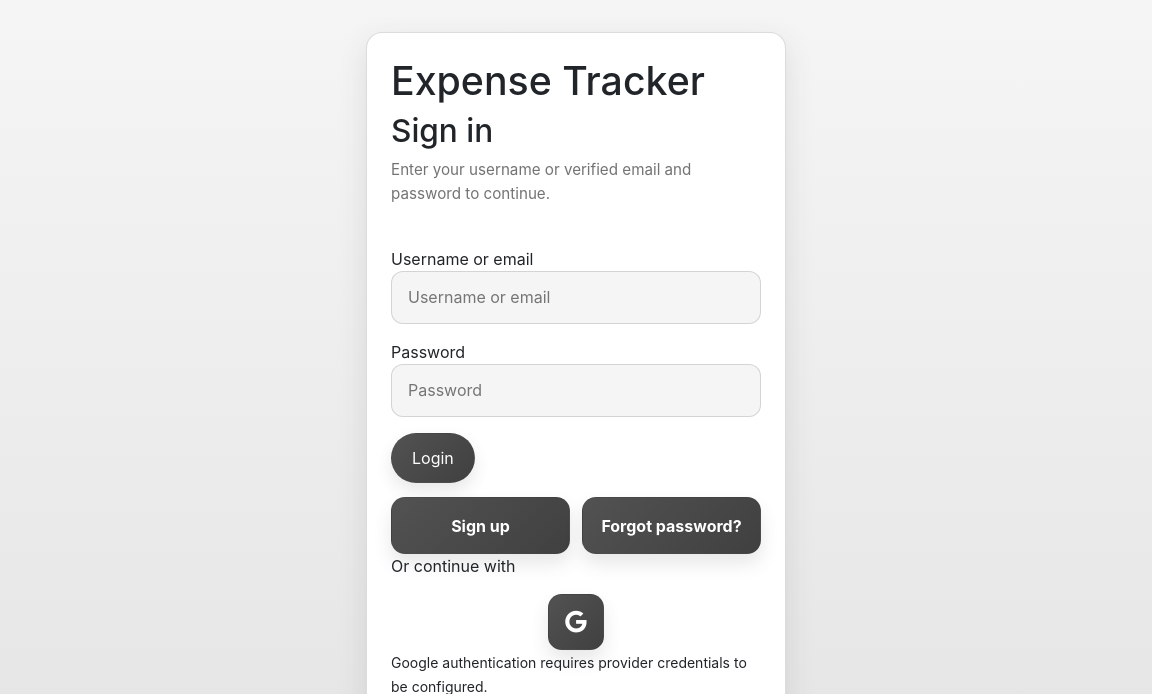
Test case: Login unit tests › keeps registration pending until the user verifies their email
The width and height of the screenshot is (1152, 694).
Click the button "Sign up" at (480, 526), box [391,497,570,554]
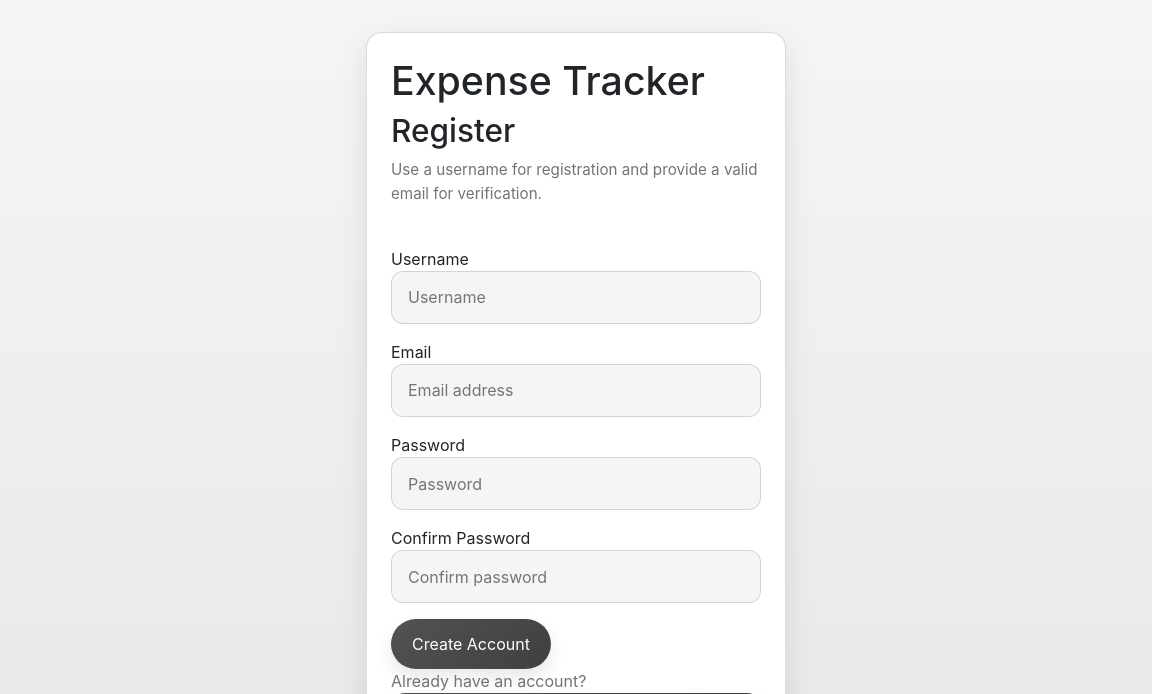
Type "pending-user" into the field labelled "Username" at (576, 297), box [391,271,761,324]
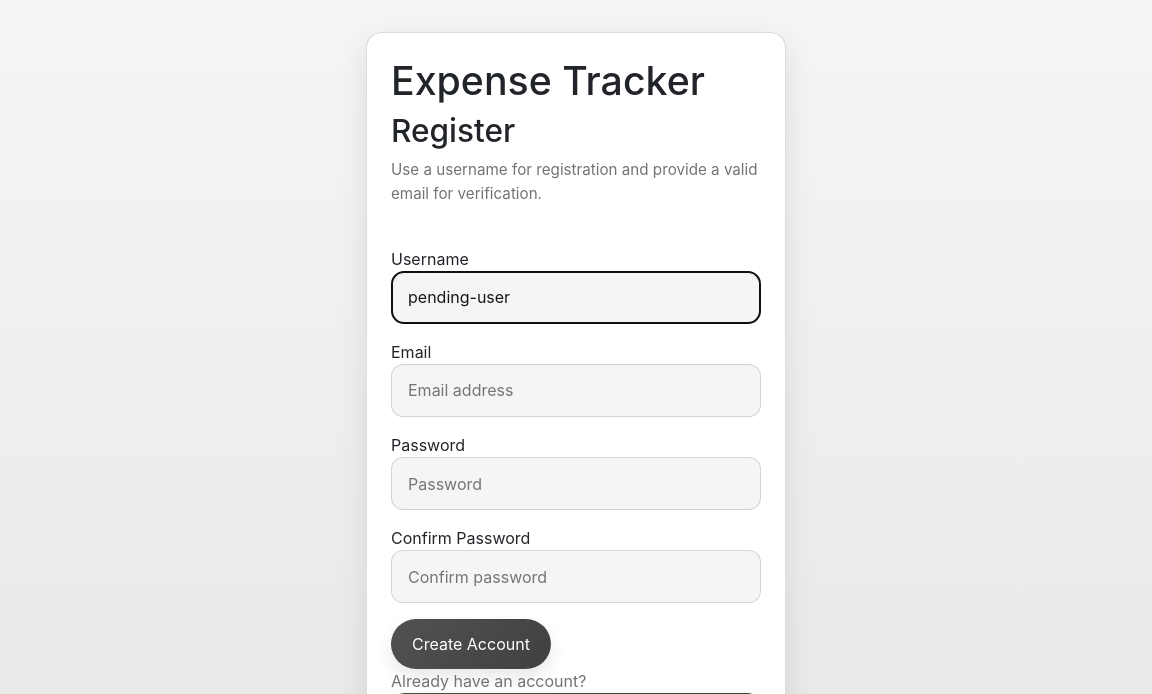
Type "pending@example.com" into the field labelled "Email" at (576, 390), box [391,364,761,417]
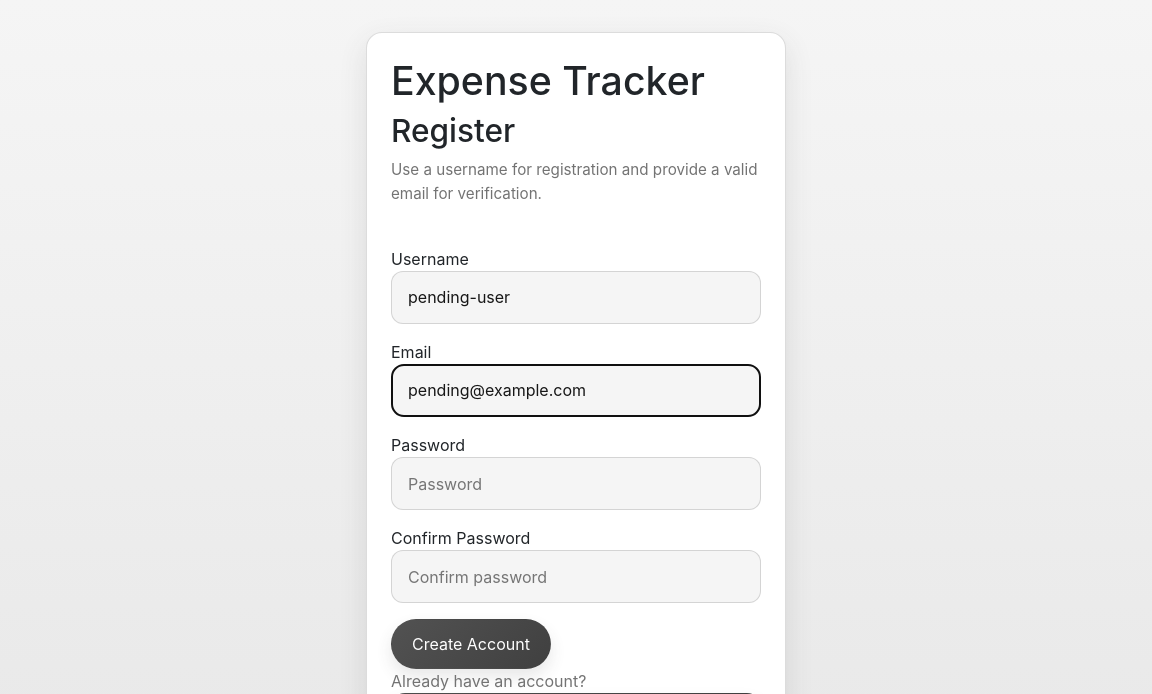
Type "StrongPassword1!" into the password field labelled "Password" at (576, 484), box [391,457,761,510]
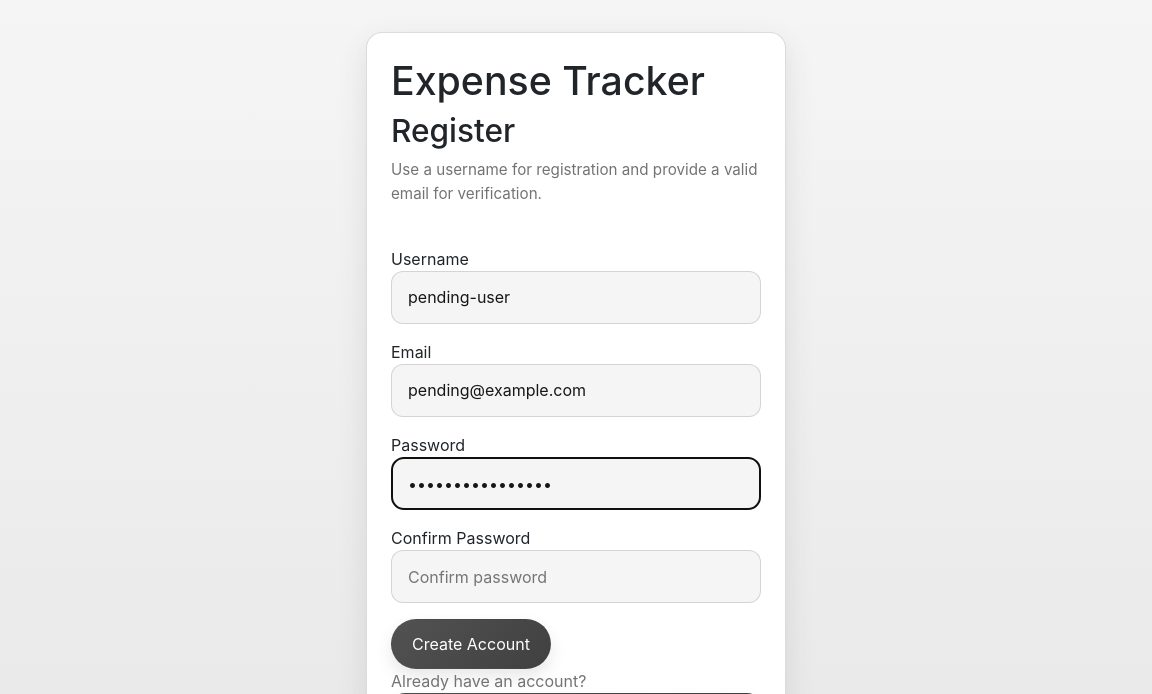
Type "StrongPassword1!" into the password field labelled "Confirm Password" at (576, 577), box [391,550,761,603]
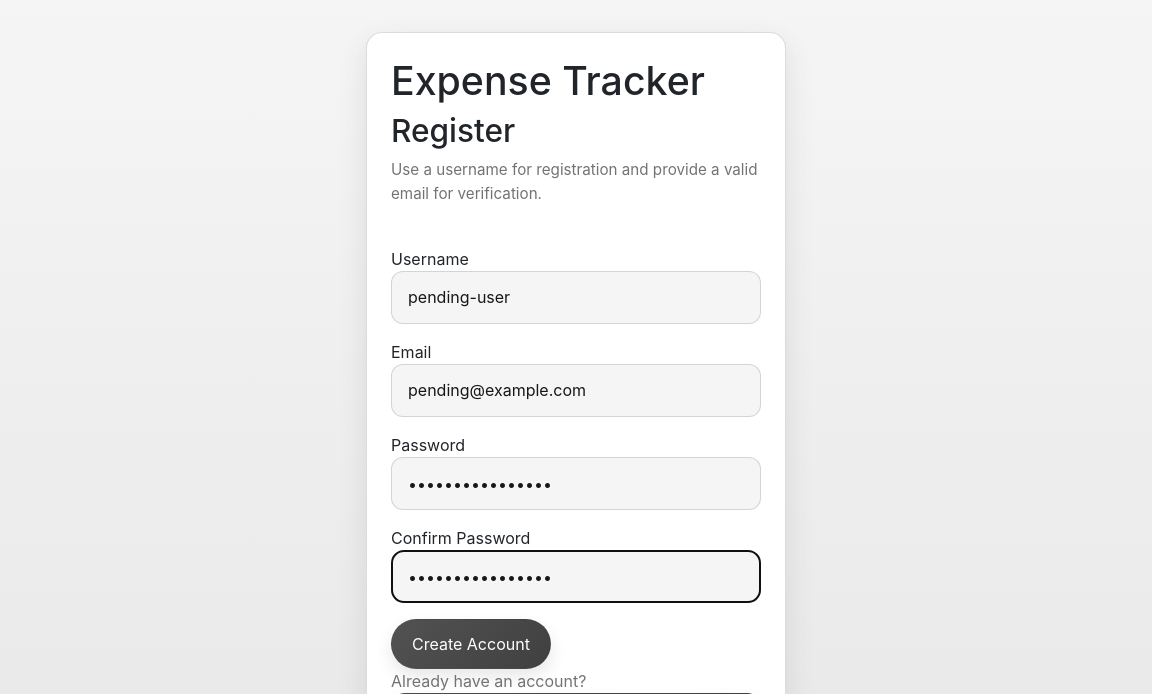
Click the button "Create Account" at (471, 644), box [391,619,551,669]
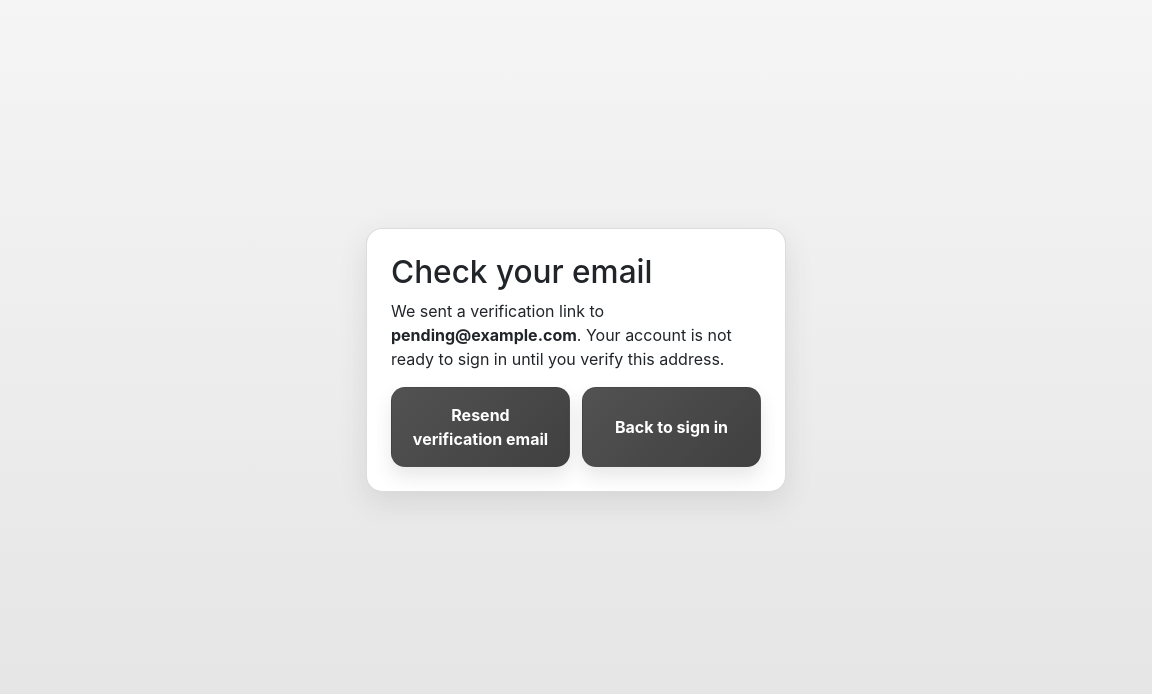
Now the heading "Check your email" is shown, box [391,252,652,291]
Now the text "account is not ready to sign in until you verify" is shown, box [391,325,732,369]
Now the button "Resend verification email" is shown, box [391,387,570,467]
